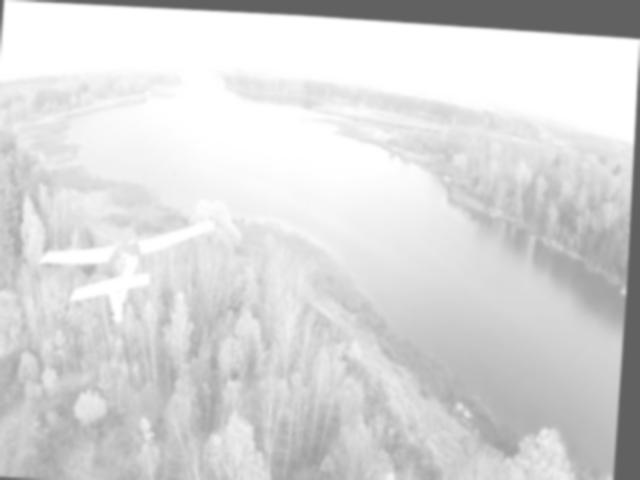hedef: (33, 193, 224, 329)
